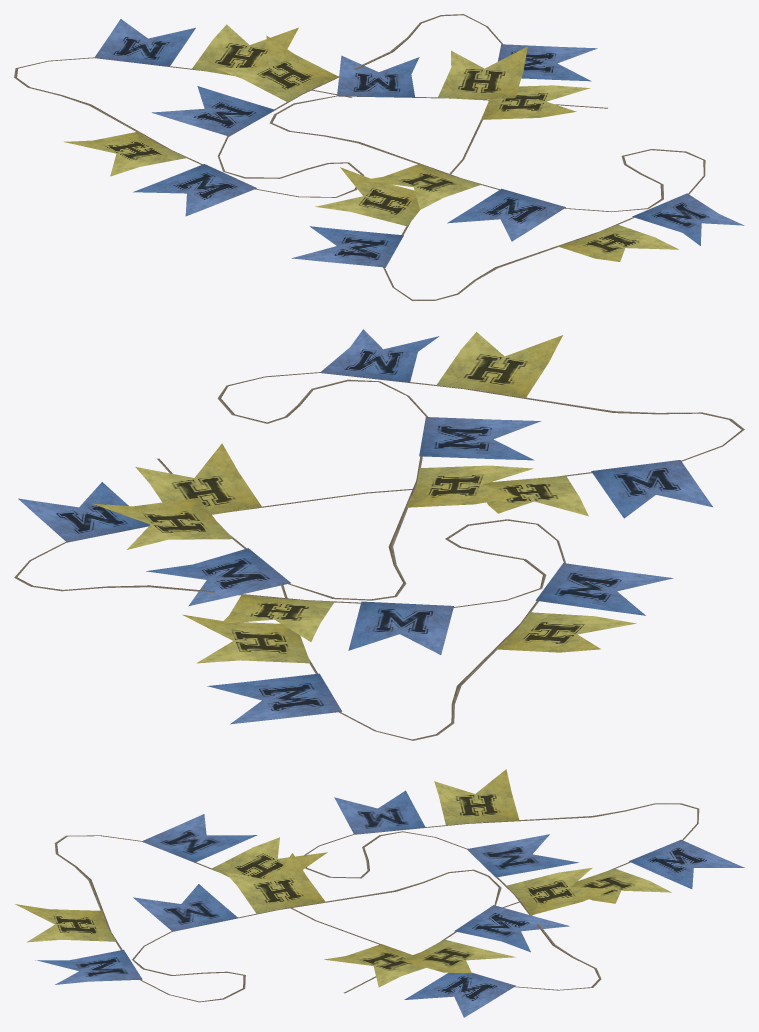
File: Flag Pile_1.FBX
The picture shows the model from 3 angles, top to bottom: view 1: azimuth 30°, elevation 25°; view 2: azimuth 150°, elevation 25°; view 3: azimuth 270°, elevation 25°; orthographic projection. The views are drawn at different scales.
Visible parts, largest first — view 1: Flag Pile_1; view 2: Flag Pile_1; view 3: Flag Pile_1.
Boxes of the visible parts, x1,y1,x2,y2 form: Flag Pile_1: (14,14,744,300); Flag Pile_1: (14,329,744,740); Flag Pile_1: (15,769,744,1017).
Size of the model in its own units: 1.16 by 0.0362 by 1.52.
